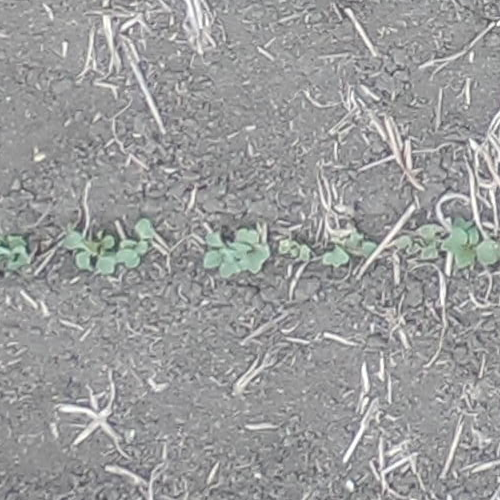clumped: (65, 217, 153, 270), (203, 224, 268, 276), (444, 220, 478, 266)
isolated: (324, 233, 378, 270), (0, 233, 31, 267), (279, 240, 309, 261), (421, 226, 438, 259), (481, 235, 499, 265), (395, 236, 419, 255)
